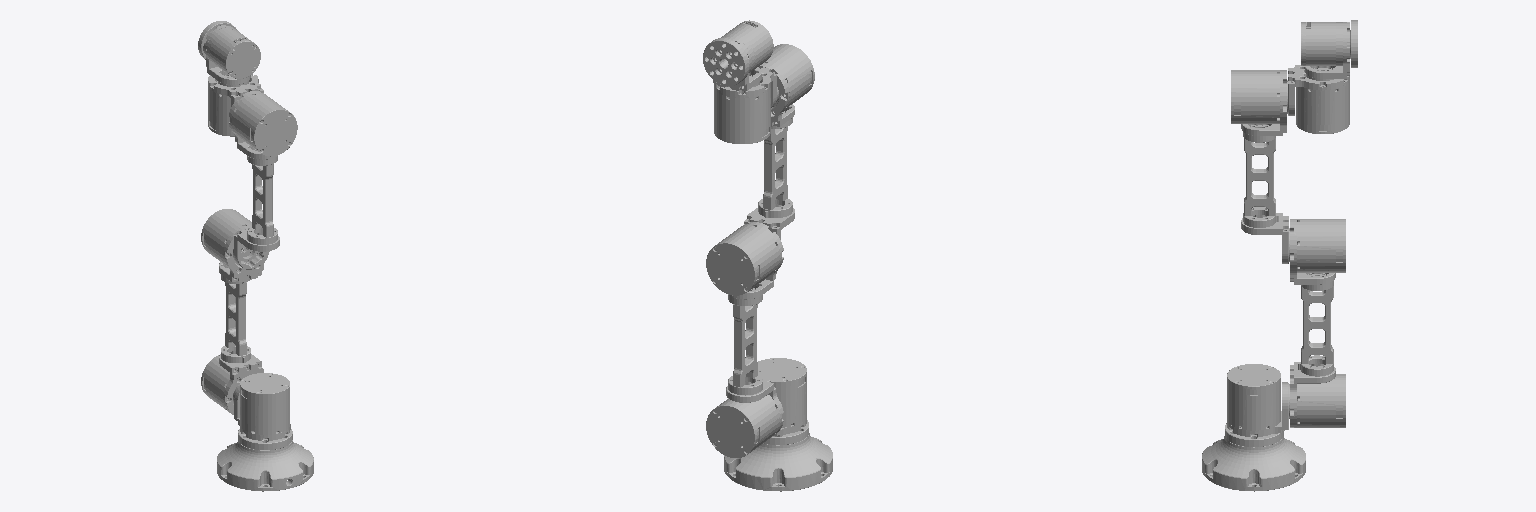
robot.urdf — ass_easyarm_a1_h0616.SLDASM:
<?xml version="1.0" encoding="utf-8"?>
<!-- This URDF was automatically created by SolidWorks to URDF Exporter! Originally created by Stephen Brawner (brawner@gmail.com)
     Commit Version: 1.6.0-4-g7f85cfe  Build Version: 1.6.7995.38578
     For more information, please see http://wiki.ros.org/sw_urdf_exporter -->
<robot
  name="ass_easyarm_a1_h0616.SLDASM">
  <link
    name="base_link">
    <inertial>
      <origin
        xyz="1.85864301500435E-08 0.000170528015075361 0.0233752275370471"
        rpy="0 0 0" />
      <mass
        value="0.141091157039369" />
      <inertia
        ixx="0.000117337484347889"
        ixy="-9.04390040901409E-11"
        ixz="1.55362925573062E-11"
        iyy="0.0001185851036162"
        iyz="2.66614551541239E-07"
        izz="0.000208390027083898" />
    </inertial>
    <visual>
      <origin
        xyz="0 0 0"
        rpy="0 0 0" />
      <geometry>
        <mesh
          filename="package://easyarm_description/meshes/easyarm_h0616/base_link.STL" />
      </geometry>
      <material
        name="">
        <color
          rgba="0.752941176470588 0.752941176470588 0.752941176470588 1" />
      </material>
    </visual>
    <collision>
      <origin
        xyz="0 0 0"
        rpy="0 0 0" />
      <geometry>
        <mesh
          filename="package://easyarm_description/meshes/easyarm_h0616/base_link.STL" />
      </geometry>
    </collision>
  </link>
  <link
    name="Link1">
    <inertial>
      <origin
        xyz="1.8778E-10 -0.0029368 -0.023504"
        rpy="0 0 0" />
      <mass
        value="0.14848" />
      <inertia
        ixx="5.9195E-05"
        ixy="-5.7068E-09"
        ixz="7.3201E-13"
        iyy="5.8621E-05"
        iyz="-1.0137E-07"
        izz="6.0699E-05" />
    </inertial>
    <visual>
      <origin
        xyz="0 0 0"
        rpy="0 0 0" />
      <geometry>
        <mesh
          filename="package://easyarm_description/meshes/easyarm_h0616/Link1.STL" />
      </geometry>
      <material
        name="">
        <color
          rgba="0.75294 0.75294 0.75294 1" />
      </material>
    </visual>
    <collision>
      <origin
        xyz="0 0 0"
        rpy="0 0 0" />
      <geometry>
        <mesh
          filename="package://easyarm_description/meshes/easyarm_h0616/Link1.STL" />
      </geometry>
    </collision>
  </link>
  <joint
    name="Joint1"
    type="revolute">
    <origin
      xyz="0 0 0.058"
      rpy="3.1416 0 0" />
    <parent
      link="base_link" />
    <child
      link="Link1" />
    <axis
      xyz="0 0 1" />
    <limit
      lower="-3.14"
      upper="3.14"
      effort="6.0"
      velocity="10.0" />
  </joint>
  <link
    name="Link2">
    <inertial>
      <origin
        xyz="1.9675E-13 0.09 -0.023386"
        rpy="0 0 0" />
      <mass
        value="0.31461" />
      <inertia
        ixx="0.00013277"
        ixy="-1.1414E-08"
        ixz="1.3378E-19"
        iyy="0.00011937"
        iyz="2.5314E-16"
        izz="0.00013393" />
    </inertial>
    <visual>
      <origin
        xyz="0 0 0"
        rpy="0 0 0" />
      <geometry>
        <mesh
          filename="package://easyarm_description/meshes/easyarm_h0616/Link2.STL" />
      </geometry>
      <material
        name="">
        <color
          rgba="0.75294 0.75294 0.75294 1" />
      </material>
    </visual>
    <collision>
      <origin
        xyz="0 0 0"
        rpy="0 0 0" />
      <geometry>
        <mesh
          filename="package://easyarm_description/meshes/easyarm_h0616/Link2.STL" />
      </geometry>
    </collision>
  </link>
  <joint
    name="Joint2"
    type="revolute">
    <origin
      xyz="0 -0.045 -0.0214"
      rpy="-1.5708 0 0" />
    <parent
      link="Link1" />
    <child
      link="Link2" />
    <axis
      xyz="0 0 1" />
    <limit
      lower="-3.14"
      upper="3.14"
      effort="6.0"
      velocity="10.0" />
  </joint>
  <link
    name="Link3">
    <inertial>
      <origin
        xyz="-1.93134327140323E-07 0.143039950619401 0.0386200574103205"
        rpy="0 0 0" />
      <mass
        value="0.188161905183098" />
      <inertia
        ixx="7.78611830449173E-05"
        ixy="5.64536059673564E-09"
        ixz="3.88896681156799E-10"
        iyy="6.63480692941198E-05"
        iyz="-2.53380690786543E-07"
        izz="7.791777594025E-05" />
    </inertial>
    <visual>
      <origin
        xyz="0 0 0"
        rpy="0 0 0" />
      <geometry>
        <mesh
          filename="package://easyarm_description/meshes/easyarm_h0616/Link3.STL" />
      </geometry>
      <material
        name="">
        <color
          rgba="0.752941176470588 0.752941176470588 0.752941176470588 1" />
      </material>
    </visual>
    <collision>
      <origin
        xyz="0 0 0"
        rpy="0 0 0" />
      <geometry>
        <mesh
          filename="package://easyarm_description/meshes/easyarm_h0616/Link3.STL" />
      </geometry>
    </collision>
  </link>
  <joint
    name="Joint3"
    type="revolute">
    <origin
      xyz="0 0.18 0"
      rpy="0 0 0" />
    <parent
      link="Link2" />
    <child
      link="Link3" />
    <axis
      xyz="0 0 -1" />
    <limit
      lower="-3.14"
      upper="3.14"
      effort="6.0"
      velocity="10.0" />
  </joint>
  <link
    name="Link4">
    <inertial>
      <origin
        xyz="-2.9715E-10 0.0021041 0.042063"
        rpy="0 0 0" />
      <mass
        value="0.14848" />
      <inertia
        ixx="5.9195E-05"
        ixy="5.5776E-13"
        ixz="-5.7068E-09"
        iyy="6.0699E-05"
        iyz="1.0299E-07"
        izz="5.8621E-05" />
    </inertial>
    <visual>
      <origin
        xyz="0 0 0"
        rpy="0 0 0" />
      <geometry>
        <mesh
          filename="package://easyarm_description/meshes/easyarm_h0616/Link4.STL" />
      </geometry>
      <material
        name="">
        <color
          rgba="0.75294 0.75294 0.75294 1" />
      </material>
    </visual>
    <collision>
      <origin
        xyz="0 0 0"
        rpy="0 0 0" />
      <geometry>
        <mesh
          filename="package://easyarm_description/meshes/easyarm_h0616/Link4.STL" />
      </geometry>
    </collision>
  </link>
  <joint
    name="Joint4"
    type="revolute">
    <origin
      xyz="0 0.172 0.0176"
      rpy="3.1416 0 0" />
    <parent
      link="Link3" />
    <child
      link="Link4" />
    <axis
      xyz="0 0 -1" />
    <limit
      lower="-3.14"
      upper="3.14"
      effort="6.0"
      velocity="10.0" />
  </joint>
  <link
    name="Link5">
    <inertial>
      <origin
        xyz="2.5974E-06 0.0054131 0.031728"
        rpy="0 0 0" />
      <mass
        value="0.045369" />
      <inertia
        ixx="9.3201E-06"
        ixy="3.4243E-10"
        ixz="5.3817E-09"
        iyy="1.425E-05"
        iyz="-1.4514E-07"
        izz="9.8891E-06" />
    </inertial>
    <visual>
      <origin
        xyz="0 0 0"
        rpy="0 0 0" />
      <geometry>
        <mesh
          filename="package://easyarm_description/meshes/easyarm_h0616/Link5.STL" />
      </geometry>
      <material
        name="">
        <color
          rgba="0.75294 0.75294 0.75294 1" />
      </material>
    </visual>
    <collision>
      <origin
        xyz="0 0 0"
        rpy="0 0 0" />
      <geometry>
        <mesh
          filename="package://easyarm_description/meshes/easyarm_h0616/Link5.STL" />
      </geometry>
    </collision>
  </link>
  <joint
    name="Joint5"
    type="revolute">
    <origin
      xyz="0 -0.0214 0.045"
      rpy="1.5708 0 0" />
    <parent
      link="Link4" />
    <child
      link="Link5" />
    <axis
      xyz="0 0 -1" />
    <limit
      lower="-3.14"
      upper="3.14"
      effort="6.0"
      velocity="10.0" />
  </joint>
  <link
    name="Link6">
    <inertial>
      <origin
        xyz="6.2237E-18 -5.5511E-17 -0.0060817"
        rpy="0 0 0" />
      <mass
        value="0.016496" />
      <inertia
        ixx="2.6123E-06"
        ixy="-3.3894E-25"
        ixz="1.3422E-22"
        iyy="2.6123E-06"
        iyz="-2.6298E-22"
        izz="4.6702E-06" />
    </inertial>
    <visual>
      <origin
        xyz="0 0 0"
        rpy="0 0 0" />
      <geometry>
        <mesh
          filename="package://easyarm_description/meshes/easyarm_h0616/Link6.STL" />
      </geometry>
      <material
        name="">
        <color
          rgba="0.75294 0.75294 0.75294 1" />
      </material>
    </visual>
    <collision>
      <origin
        xyz="0 0 0"
        rpy="0 0 0" />
      <geometry>
        <mesh
          filename="package://easyarm_description/meshes/easyarm_h0616/Link6.STL" />
      </geometry>
    </collision>
  </link>
  <joint
    name="Joint6"
    type="revolute">
    <origin
      xyz="0 0.037 0.0399"
      rpy="-1.5708 0 0" />
    <parent
      link="Link5" />
    <child
      link="Link6" />
    <axis
      xyz="0 0 -1" />
    <limit
      lower="-3.14"
      upper="3.14"
      effort="6.0"
      velocity="10.0" />
  </joint>
</robot>

--- Render facts (derived) ---
3 views of the same robot in one strip: view 1: azimuth 30°, elevation 25°; view 2: azimuth 150°, elevation 25°; view 3: azimuth 270°, elevation 25° (orthographic).
Model ass_easyarm_a1_h0616.SLDASM with 7 links and 6 joints (6 revolute), rooted at base_link, posed every joint at zero.
Links seen in each view (by area): view 1: Link3, Link2, base_link, Link1, Link5, Link4; view 2: Link2, Link3, base_link, Link4, Link1, Link5, Link6; view 3: Link2, Link3, base_link, Link1, Link4, Link5.
Link boxes in pixels (x1,y1,x2,y2): Link3: (229,91,297,269); Link2: (201,209,269,414); base_link: (217,429,313,491); Link1: (233,373,290,440); Link5: (203,25,260,86); Link4: (208,74,263,136); Link2: (706,222,783,457); Link3: (744,44,814,239); base_link: (724,420,832,491); Link4: (714,67,778,143); Link1: (758,358,806,437); Link5: (713,20,773,90); Link6: (703,38,748,86); Link2: (1290,219,1345,427); Link3: (1231,70,1289,263); base_link: (1202,423,1305,491); Link1: (1227,364,1289,436); Link4: (1287,65,1349,133); Link5: (1301,22,1349,80).
Size in the robot's own frame: 0.11 by 0.1644 by 0.5176 metres.
7 mesh visuals loaded from 7 distinct referenced files (7 binary STL).
